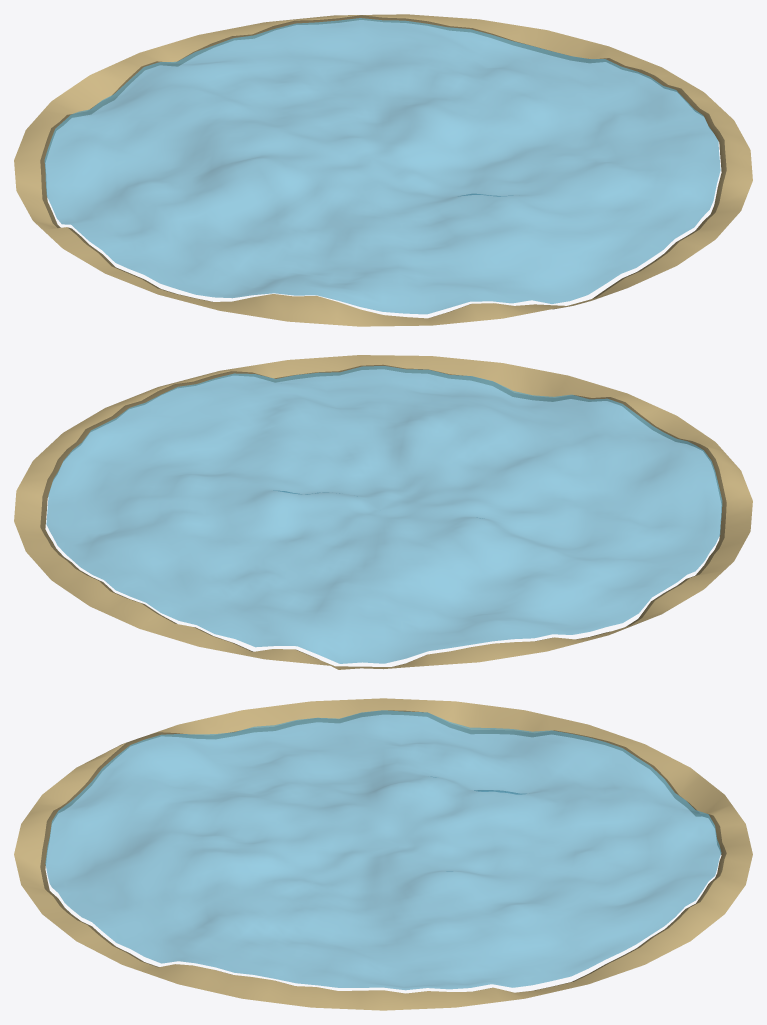
Rendered from Circle Water - Animated.fbx.
3 views of the same model, one above another, from view 1: azimuth 30°, elevation 25°; view 2: azimuth 150°, elevation 25°; view 3: azimuth 270°, elevation 25° (orthographic).
Visible parts, largest first — view 1: Circle, Circle.001; view 2: Circle, Circle.001; view 3: Circle, Circle.001.
Boxes of the visible parts, x1=… form: Circle: x1=44, y1=18, x2=720, y2=314; Circle.001: x1=14, y1=14, x2=752, y2=326; Circle: x1=46, y1=366, x2=722, y2=663; Circle.001: x1=14, y1=355, x2=752, y2=669; Circle: x1=45, y1=710, x2=721, y2=990; Circle.001: x1=14, y1=698, x2=752, y2=1010.
Bounding box in the file's own units: 4428 × 257 × 4428.
